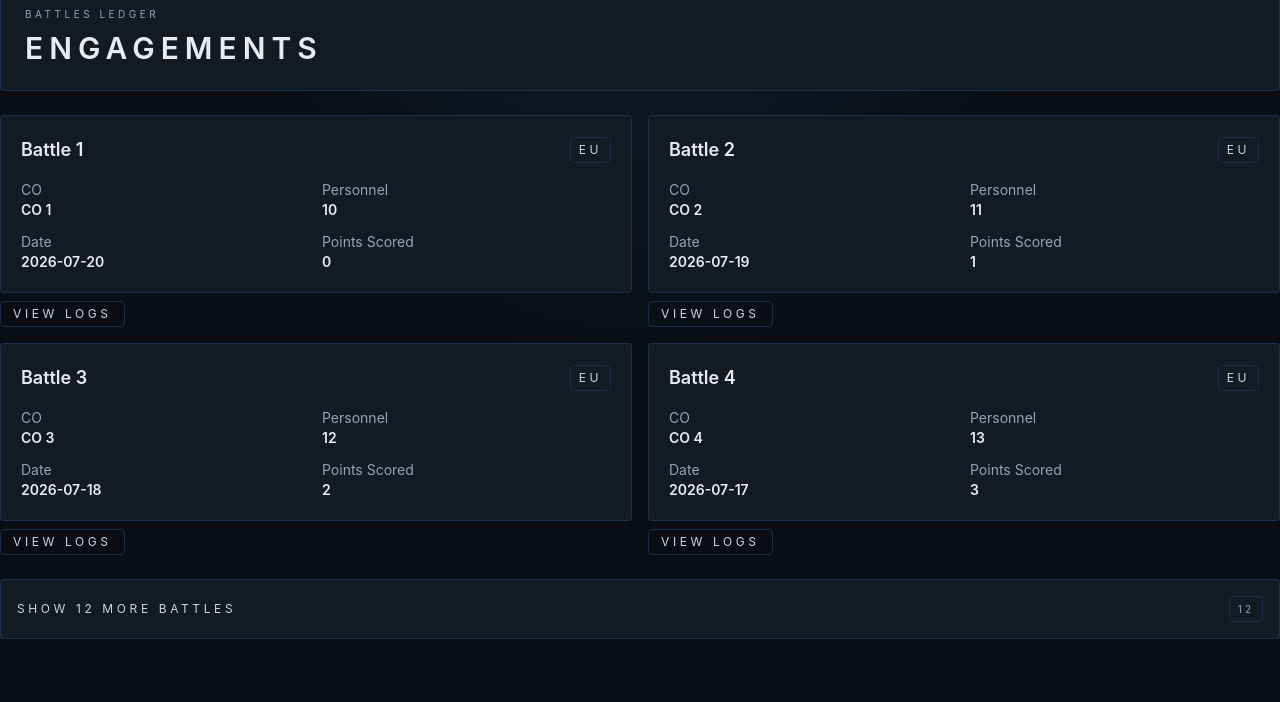
Test case: BattlesPage › shows battles in 12-item chunks each time the button is pushed
The image size is (1280, 702).
Expected: the text "Battles Ledger" is shown, [25,8,159,20]
Expected: the number of buttons "View Logs" is 4, [0,301,125,327]; [648,301,773,327]; [0,529,125,555]; [648,529,773,555]
Click the button "Show 12 more battles 12": (127, 608) [17,596,1263,622]
(page scrolled)
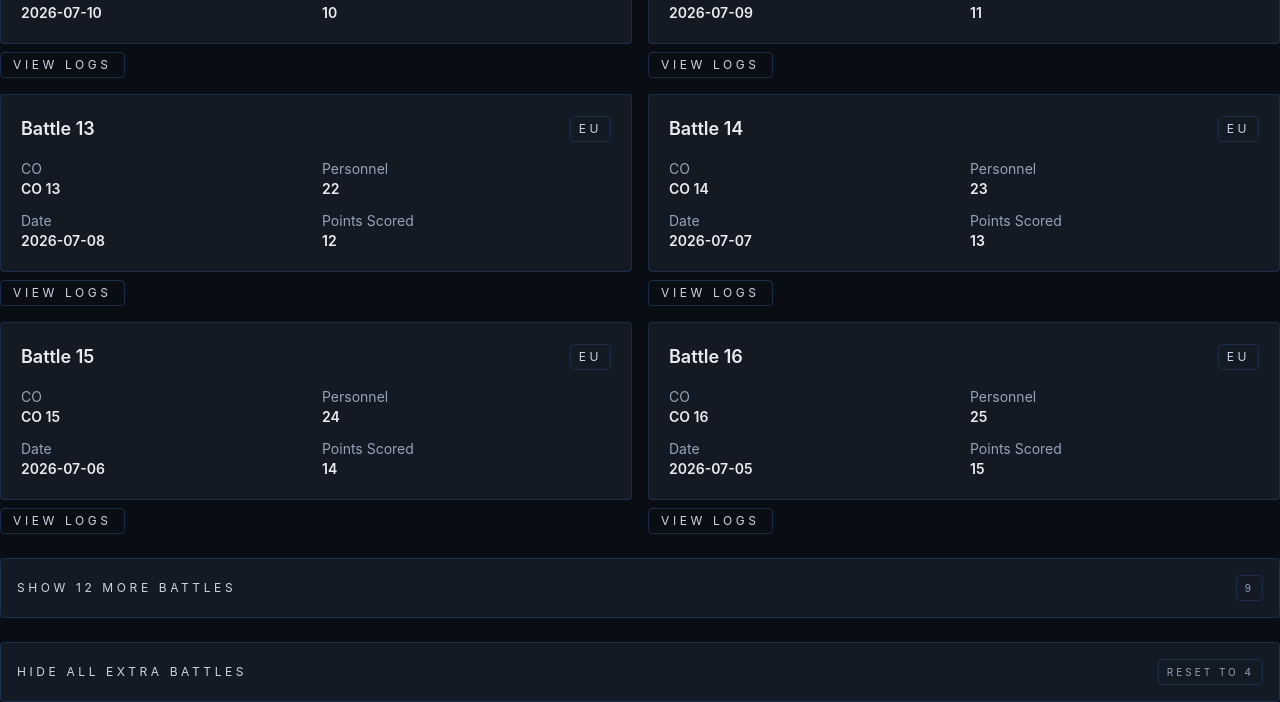
Click the button "Show 12 more battles 9": (127, 588) [17,575,1263,601]
(page scrolled)
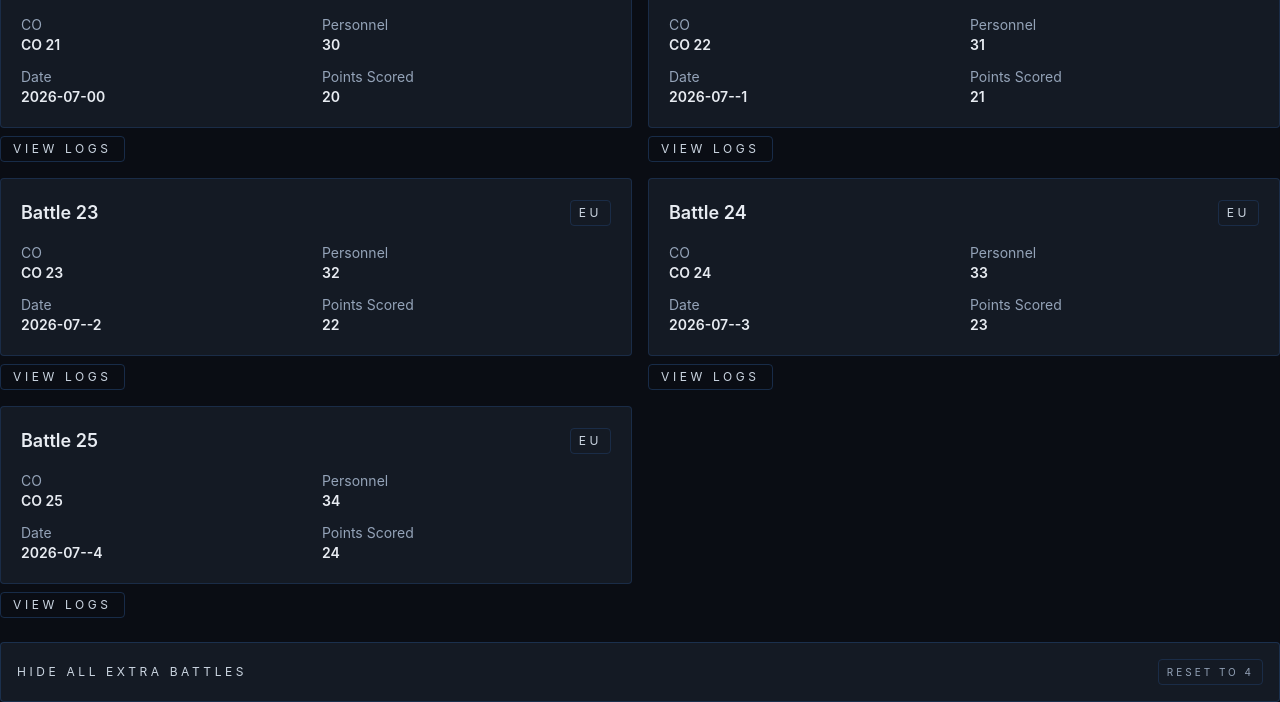
Expected: the button "Hide all extra battles Reset to 4" is shown
Click the button "Hide all extra battles Reset to 4": (132, 672) [17,659,1263,685]
(page scrolled)
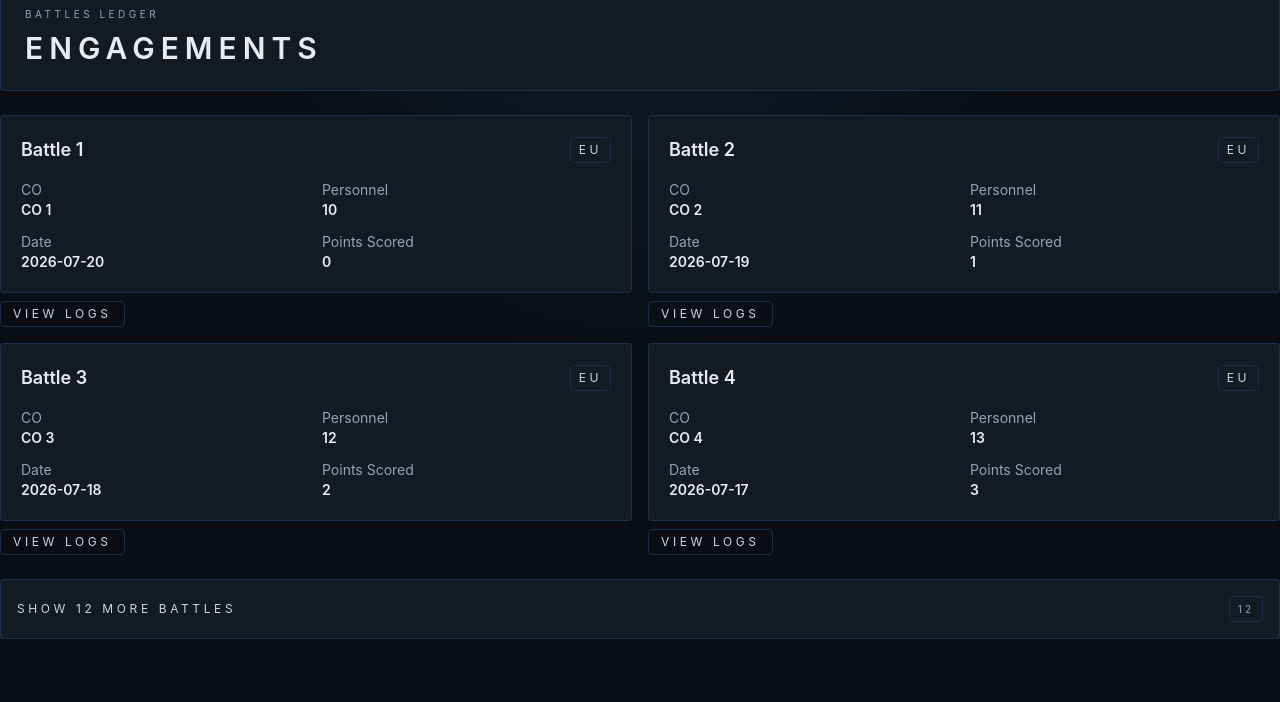
Expected: the number of buttons "View Logs" is 4, [0,301,125,327]; [648,301,773,327]; [0,529,125,555]; [648,529,773,555]
Expected: the button "Show 12 more battles 12" is shown, [17,596,1263,622]
